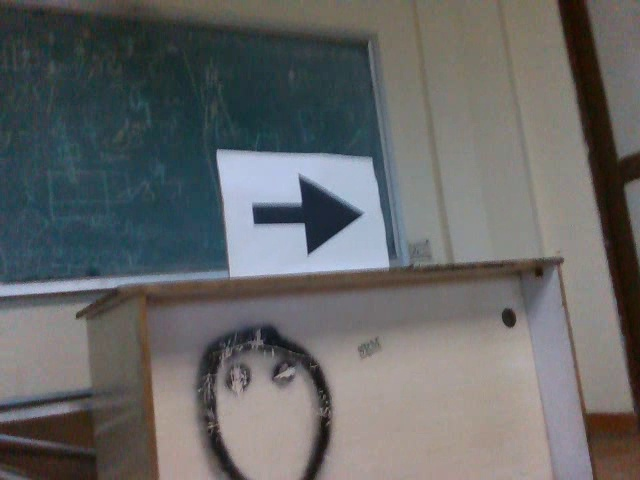Right: (240, 168, 371, 255)
